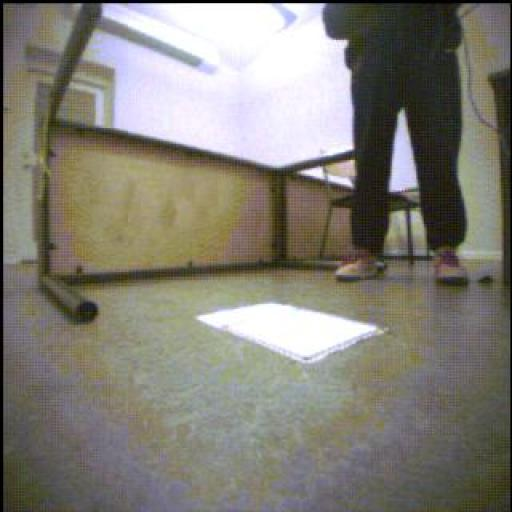Pad: (198, 304, 387, 365)
